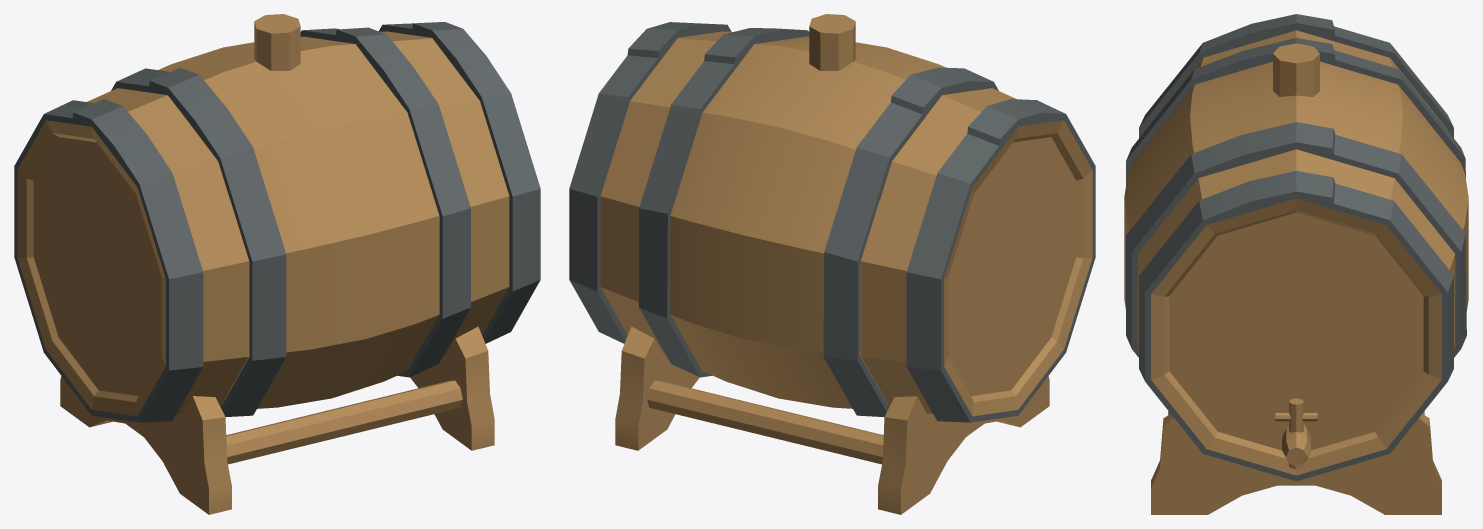
The model's file is barrel_onside.fbx.
3 views of the same model, side by side, from view 1: azimuth 30°, elevation 25°; view 2: azimuth 150°, elevation 25°; view 3: azimuth 270°, elevation 25° (orthographic). The views are drawn at different scales.
Visible parts, largest first — view 1: barrel_onside; view 2: barrel_onside; view 3: barrel_onside.
Boxes of the visible parts, x1,y1,x2,y2 form: barrel_onside: [14, 14, 540, 514]; barrel_onside: [569, 14, 1095, 514]; barrel_onside: [1124, 14, 1468, 514].
Bounding box in the file's own units: 134 × 122 × 97.08.
